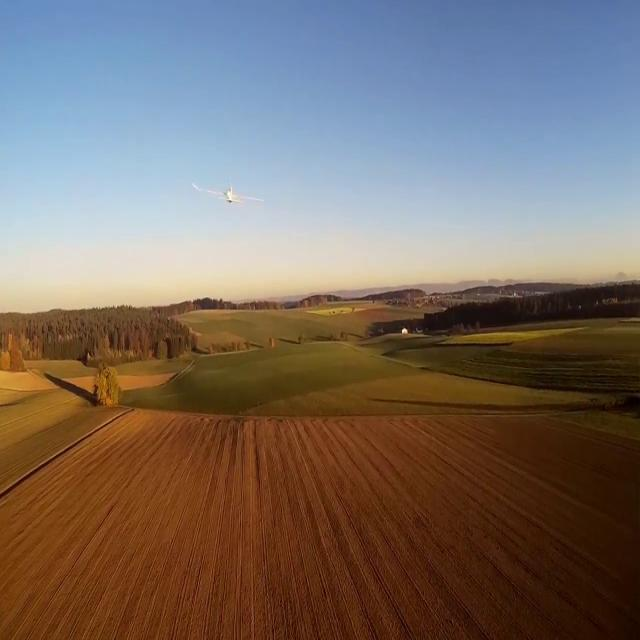iha: (224, 179, 230, 205)
